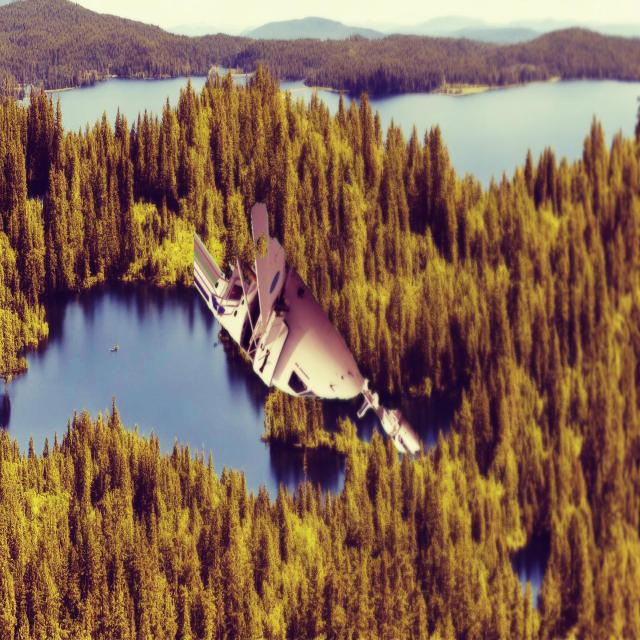airplane: (192, 200, 421, 458)
